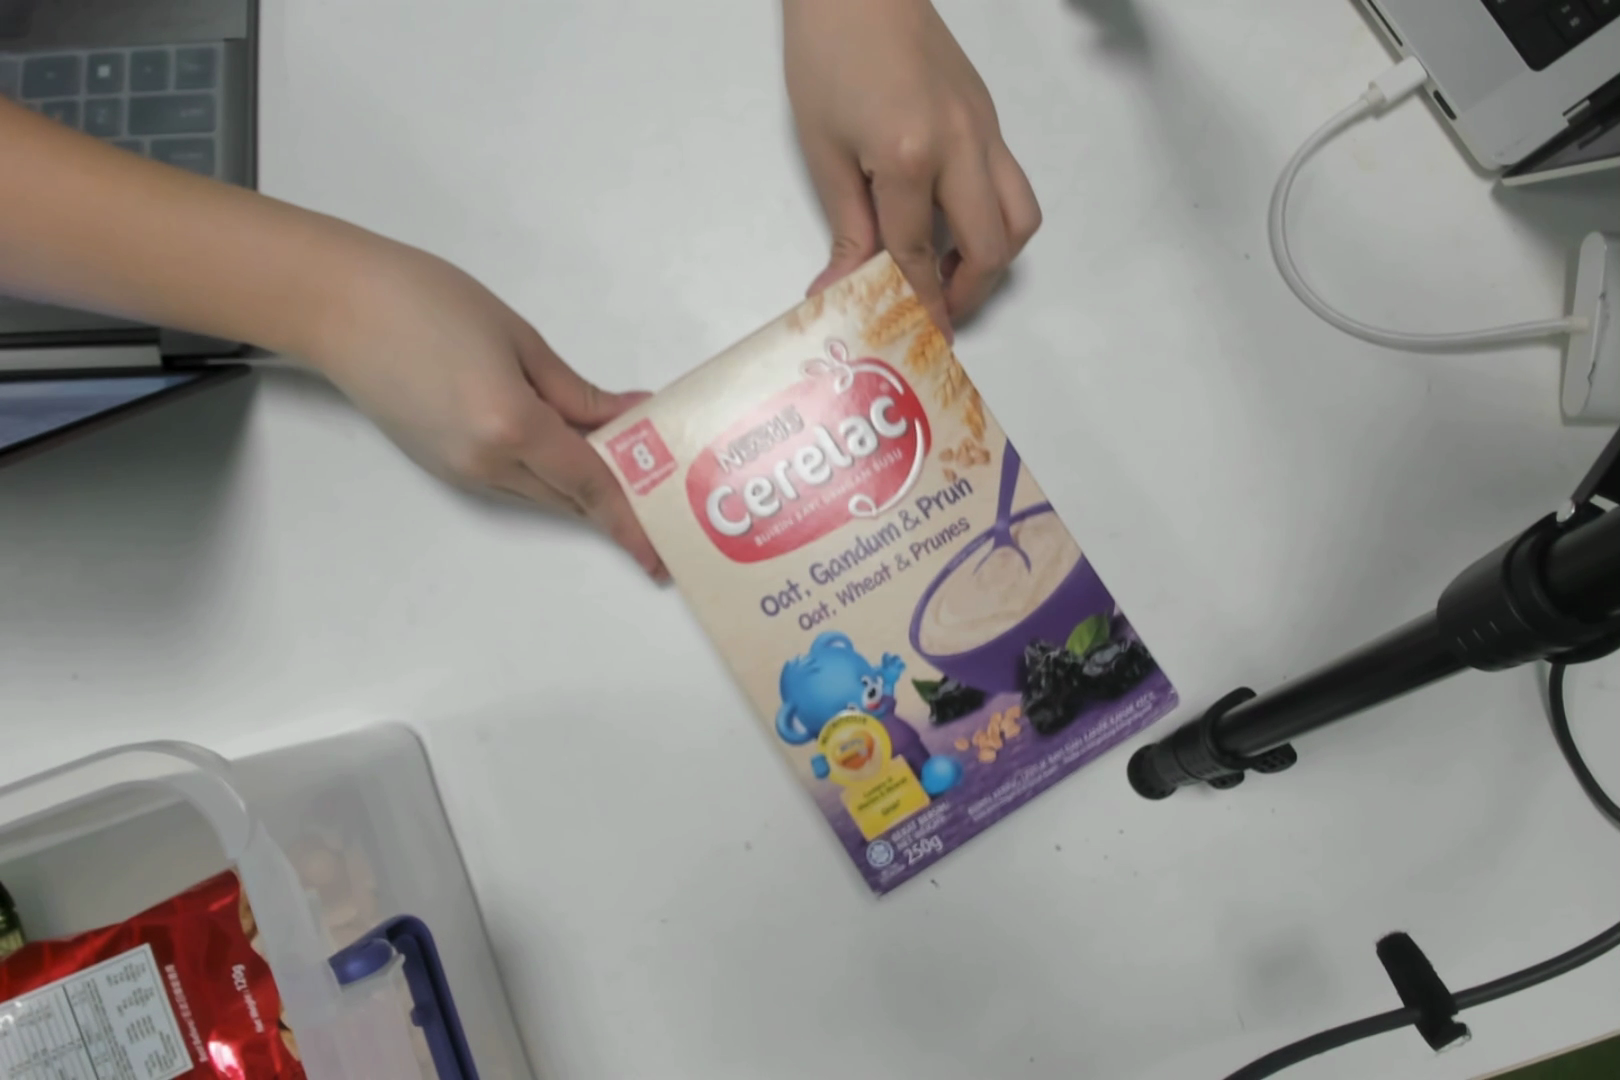d: (615, 411, 1082, 885)
